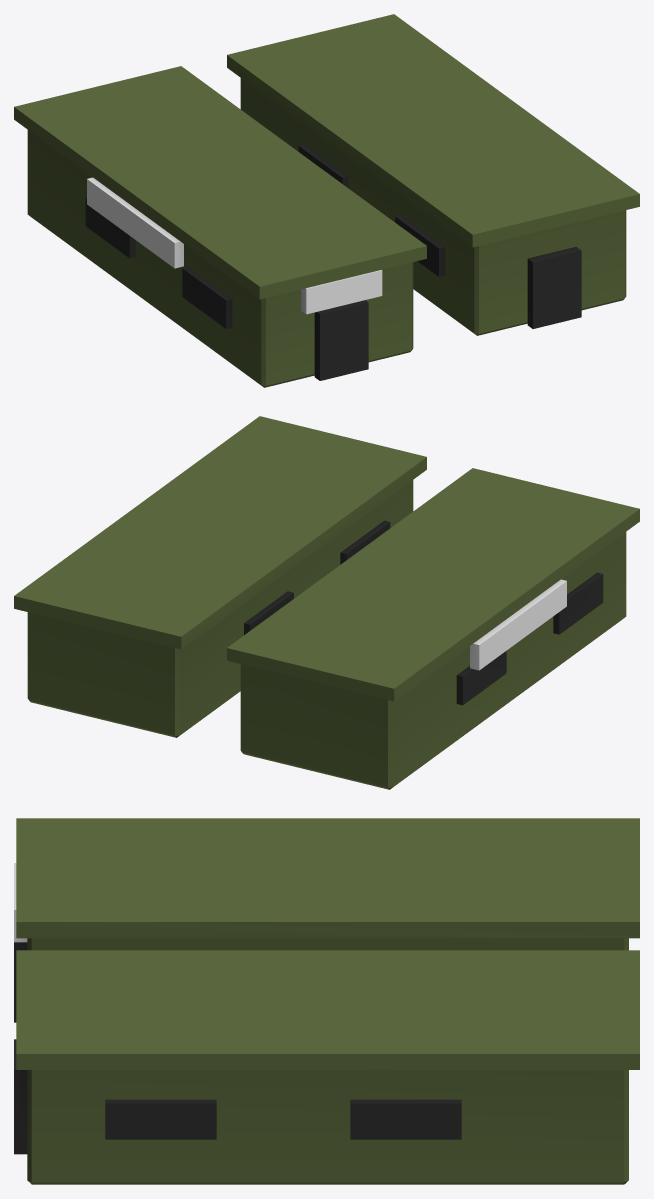
File: ua-barracks.glb
The picture shows the model from 3 angles, top to bottom: view 1: azimuth 30°, elevation 25°; view 2: azimuth 150°, elevation 25°; view 3: azimuth 270°, elevation 25°; orthographic projection. The views are drawn at different scales.
Parts seen in each view (by area): view 1: ua-barracks; view 2: ua-barracks; view 3: ua-barracks.
Part boxes in pixels (box(x1,y1,x2,y2)): ua-barracks: box(14, 14, 639, 387); ua-barracks: box(14, 416, 639, 789); ua-barracks: box(14, 818, 639, 1184).
Bounding box in the file's own units: 2.54 × 0.68 × 2.81.
